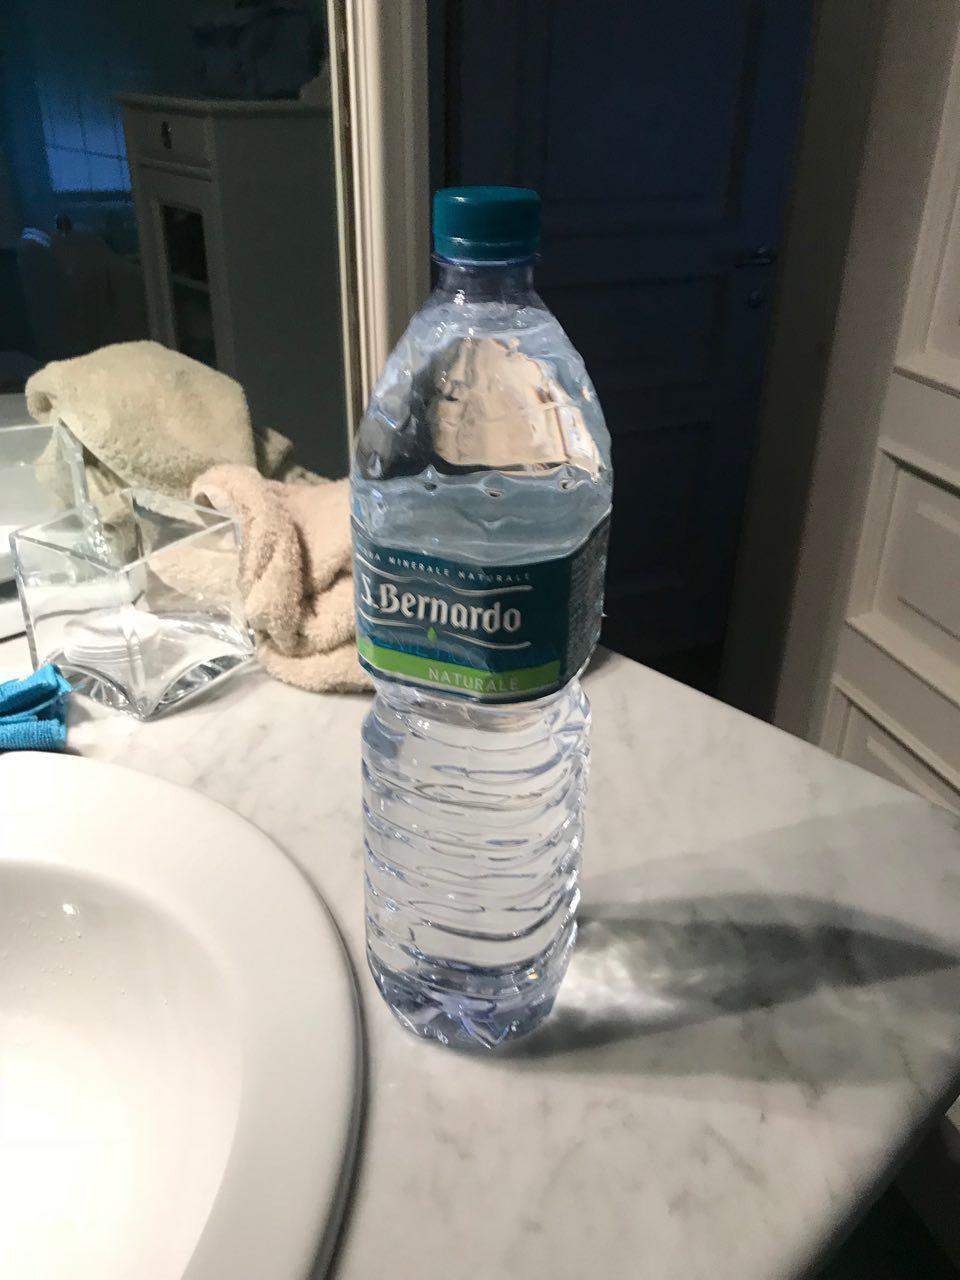san_bernardo: (348, 182, 616, 1056)
